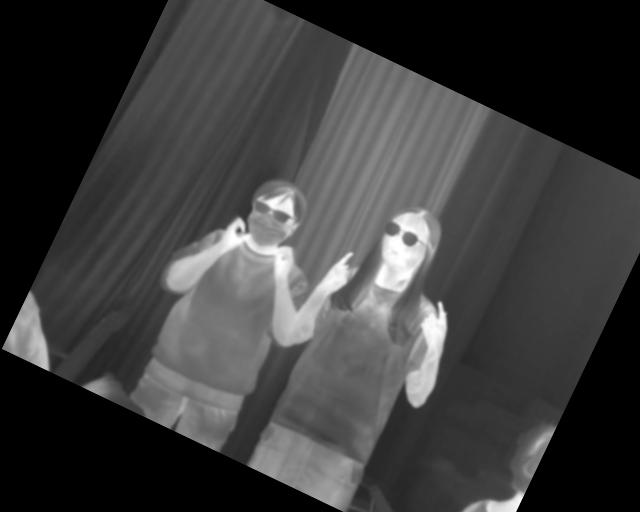face: (235, 170, 315, 258), (370, 196, 447, 280)
